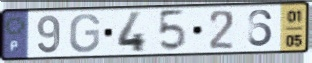2: (207, 8, 236, 51)
4: (115, 10, 150, 54)
5: (157, 7, 189, 54)
6: (246, 8, 275, 49)
9: (36, 14, 62, 54)
G: (67, 13, 102, 54)
